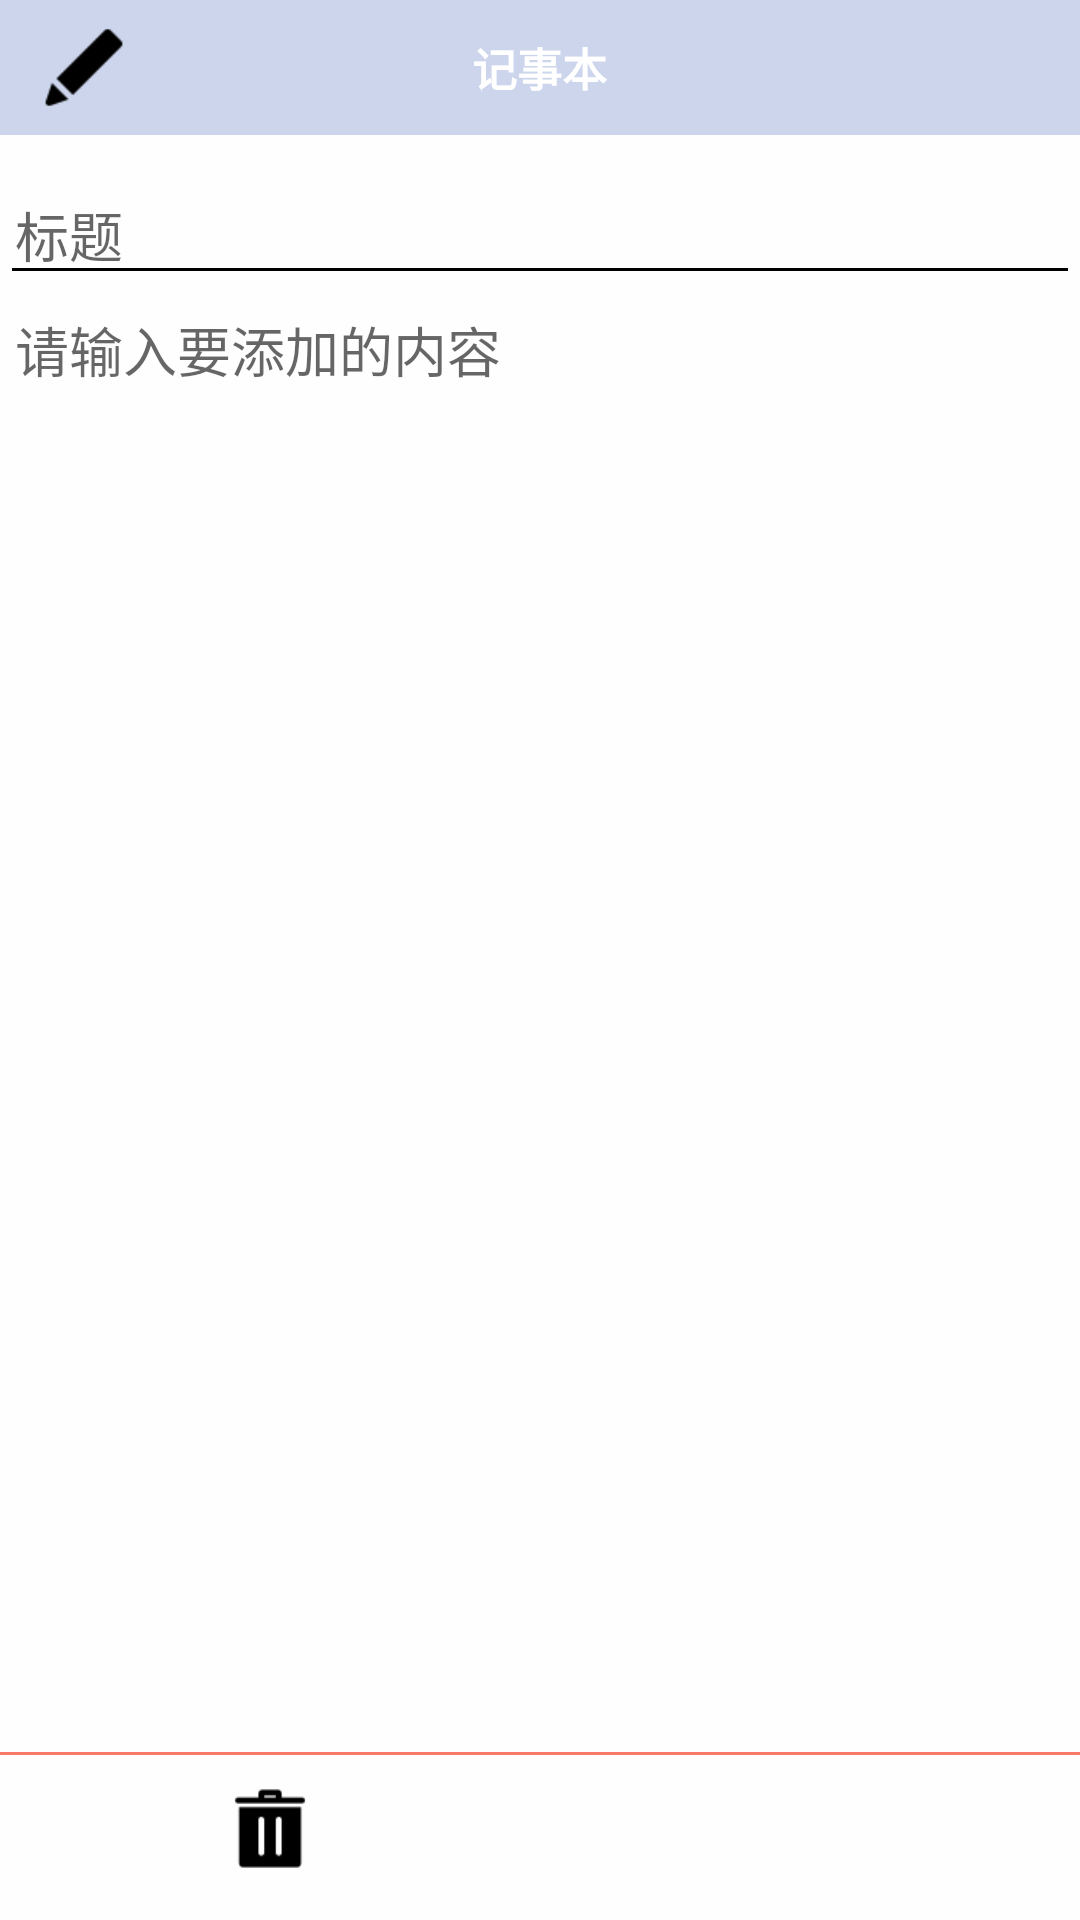

Icons on this 1080px x 1920px Android screen, each with the point to tap as (x,y):
paint text: (84,67)
view delete: (270,1828)
